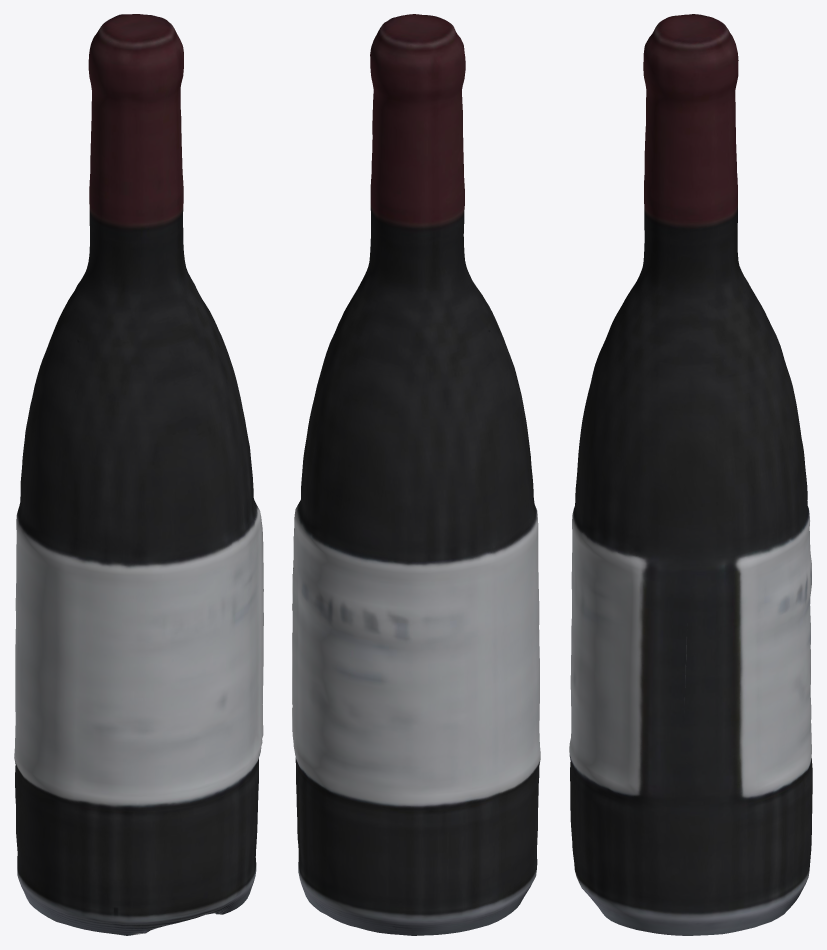
The model's file is WineBottle1.fbx.
3 renders of one model, left to right at view 1: azimuth 30°, elevation 25°; view 2: azimuth 150°, elevation 25°; view 3: azimuth 270°, elevation 25°, orthographic.
Parts seen in each view (by area): view 1: mesh; view 2: mesh; view 3: mesh.
Boxes of the visible parts, x1,y1,x2,y2 form: mesh: (14,14,263,935); mesh: (292,14,540,935); mesh: (569,14,812,935).
Size of the model in its own units: 25.79 by 99.96 by 25.53.
